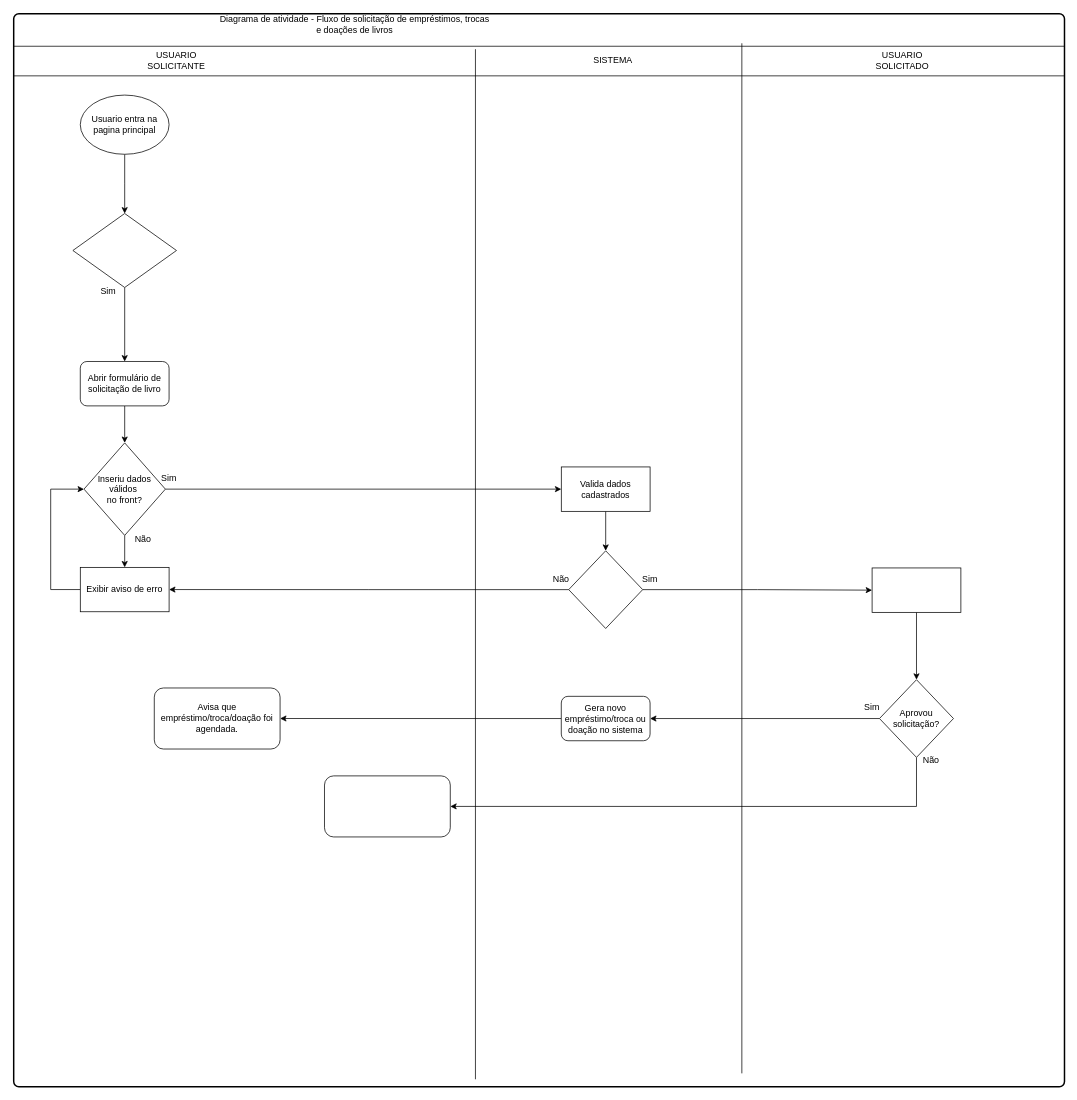
Some shapes in this 1077 by 1100 pixel diagram are drawn without their labels. The shapes that lost their labels are listed below. From the top down, each one's centre as x and y in pixels, then its label:
[124,250]: Escolheu um livro disponível?
[605,589]: Dados OK?
[916,589]: Recebe solicitação de livro
[387,806]: Avisa que empréstimo/troca/doação foi negada
